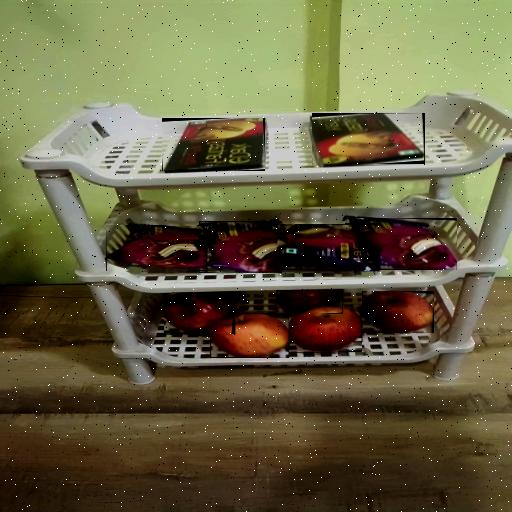Apple: (210, 313, 289, 358), (287, 308, 362, 354), (362, 291, 434, 333), (164, 294, 235, 336), (276, 290, 343, 314), (206, 292, 244, 304)
Choco Fills: (312, 114, 425, 166), (162, 118, 265, 171)
Choco Pie: (344, 218, 456, 270), (106, 226, 207, 272), (278, 224, 377, 270), (199, 221, 282, 273)
